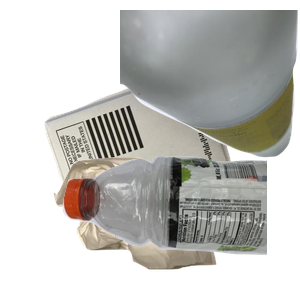glass: (120, 10, 300, 160)
paper: (42, 68, 275, 248)
plastic: (60, 152, 300, 300)
trash: (51, 155, 261, 300)
